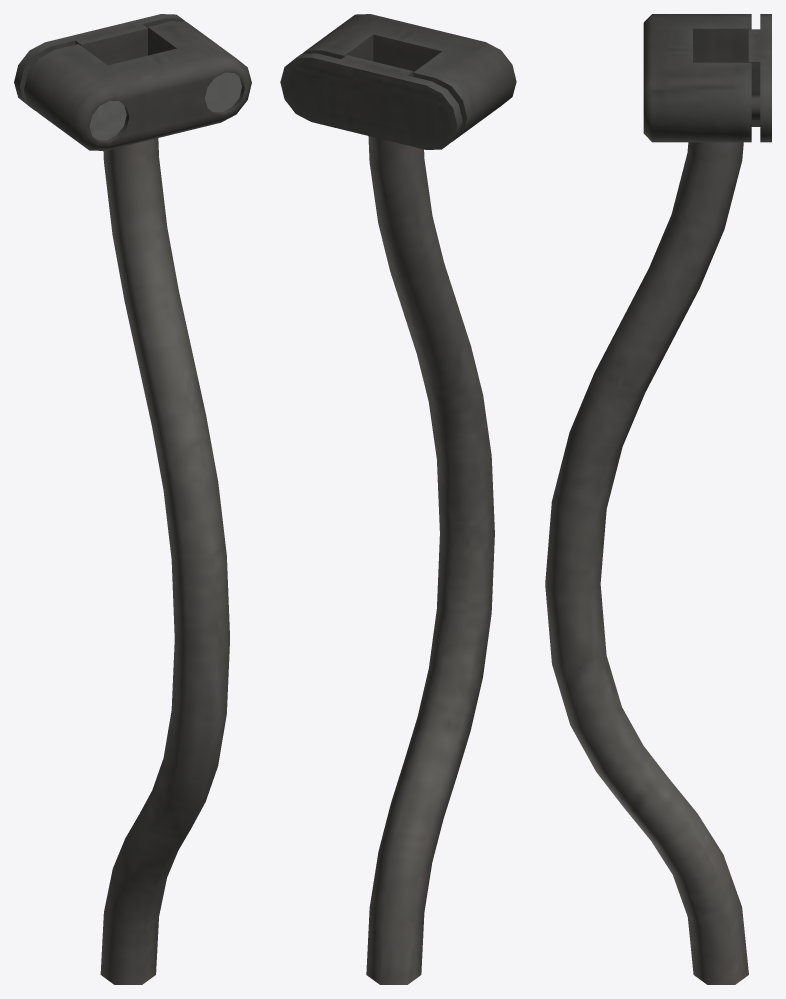
The model's file is cable_bridge_1.gltf.
The picture shows the model from 3 angles, left to right: view 1: azimuth 30°, elevation 25°; view 2: azimuth 150°, elevation 25°; view 3: azimuth 270°, elevation 25°; orthographic projection.
Parts seen in each view (by area): view 1: cable_bridge_1; view 2: cable_bridge_1; view 3: cable_bridge_1.
Part boxes in pixels (x1,y1,x2,y2): cable_bridge_1: [14, 14, 251, 984]; cable_bridge_1: [280, 14, 516, 984]; cable_bridge_1: [545, 14, 771, 984].
Bounding box in the file's own units: 0.0416 × 0.2073 × 0.0458.
1 material, 1 textured.
